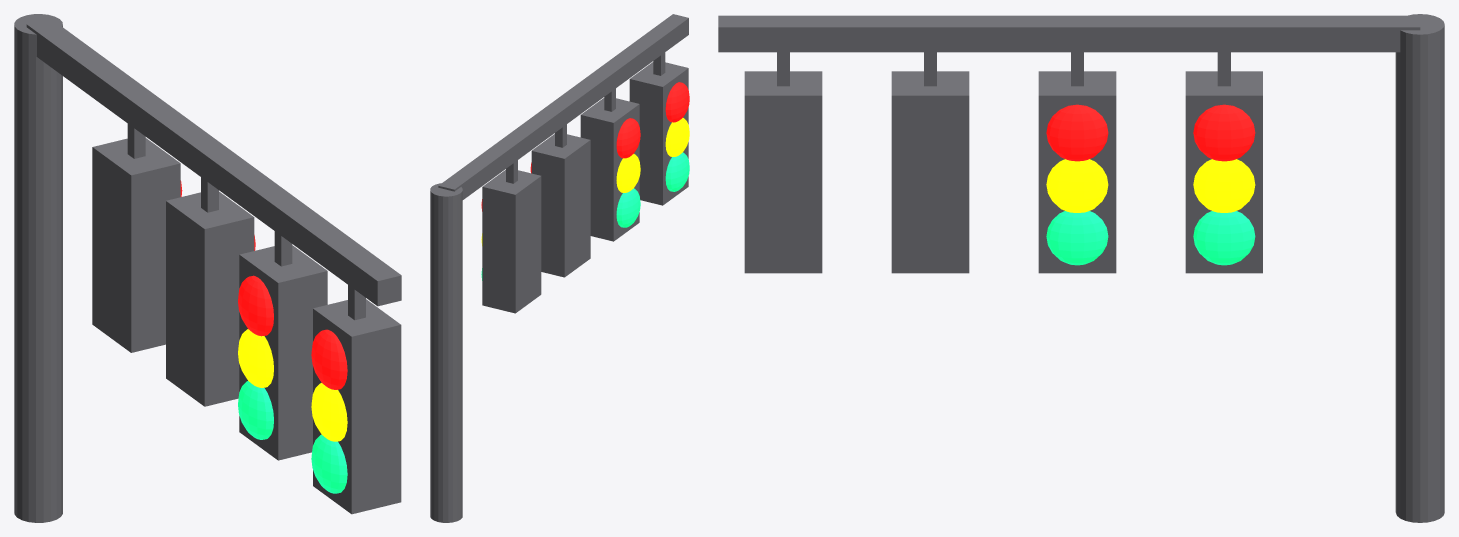
File: traffic_light_q.fbx
The picture shows the model from 3 angles, left to right: view 1: azimuth 30°, elevation 25°; view 2: azimuth 150°, elevation 25°; view 3: azimuth 270°, elevation 25°; orthographic projection. The views are drawn at different scales.
Visible parts, largest first — view 1: Semaforo_cuerpo, lamp_red.003, lamp_red.002, lamp_green.003, lamp_yellow.003, lamp_green.002, lamp_yellow.002; view 2: Semaforo_cuerpo, lamp_red.002, lamp_red.003, lamp_green.002, lamp_green.003, lamp_yellow.003, lamp_yellow.002; view 3: Semaforo_cuerpo, lamp_red, lamp_red.001, lamp_green, lamp_green.001, lamp_yellow.001, lamp_yellow.
Boxes of the visible parts, <box> form: Semaforo_cuerpo: <box>14,14,401,522</box>; lamp_red.003: <box>311,329,347,389</box>; lamp_red.002: <box>238,275,273,336</box>; lamp_green.003: <box>311,434,347,493</box>; lamp_yellow.003: <box>311,383,347,441</box>; lamp_green.002: <box>238,381,273,439</box>; lamp_yellow.002: <box>238,329,273,387</box>; Semaforo_cuerpo: <box>430,14,688,522</box>; lamp_red.002: <box>616,118,640,158</box>; lamp_red.003: <box>665,82,689,122</box>; lamp_green.002: <box>616,188,640,227</box>; lamp_green.003: <box>665,152,689,191</box>; lamp_yellow.003: <box>665,118,689,156</box>; lamp_yellow.002: <box>616,154,640,192</box>; Semaforo_cuerpo: <box>718,14,1444,522</box>; lamp_red: <box>1193,104,1255,161</box>; lamp_red.001: <box>1046,104,1108,161</box>; lamp_green: <box>1193,211,1255,265</box>; lamp_green.001: <box>1046,211,1108,265</box>; lamp_yellow.001: <box>1046,159,1108,212</box>; lamp_yellow: <box>1193,159,1255,212</box>.
Size of the model in its own units: 109 by 664 by 890.
